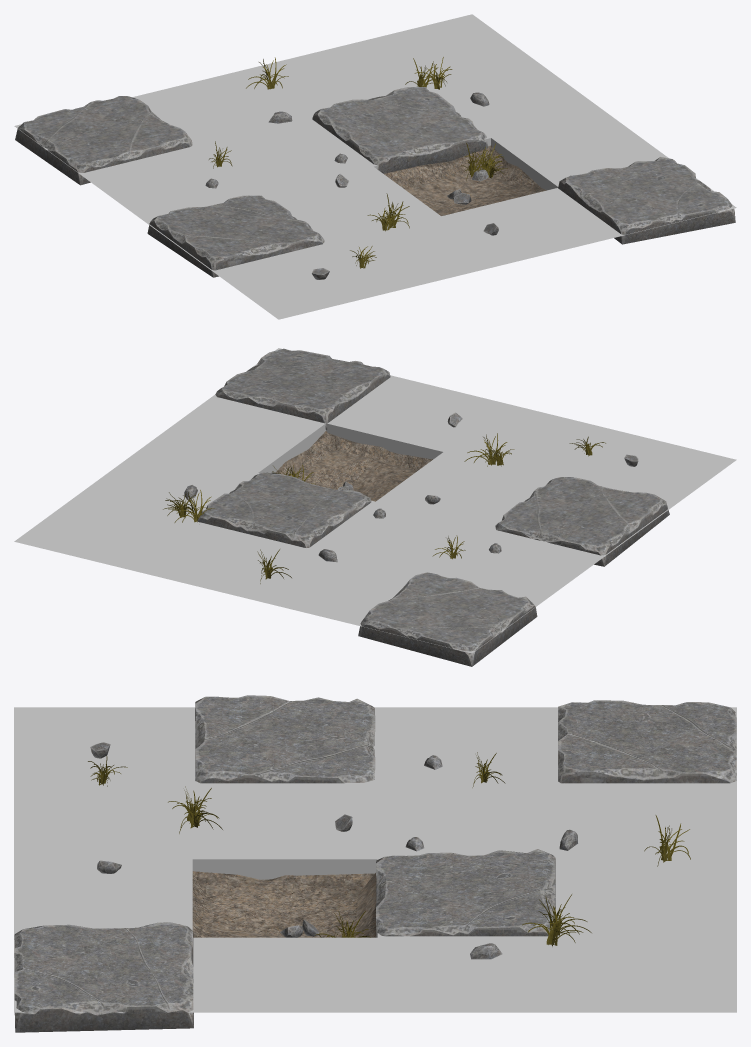
3 views of the same model, one above another, from view 1: azimuth 30°, elevation 25°; view 2: azimuth 150°, elevation 25°; view 3: azimuth 270°, elevation 25° (orthographic). The views are drawn at different scales.
Parts seen in each view (by area): view 1: StoneFloor, StoneFloor_Details, StoneFloor_Grass; view 2: StoneFloor, StoneFloor_Details, StoneFloor_Grass; view 3: StoneFloor, StoneFloor_Details, StoneFloor_Grass.
Part boxes in pixels (<box>): StoneFloor: <box>14,14,736,319</box>; StoneFloor_Details: <box>15,87,735,279</box>; StoneFloor_Grass: <box>209,57,507,268</box>; StoneFloor: <box>14,348,736,653</box>; StoneFloor_Details: <box>184,348,669,666</box>; StoneFloor_Grass: <box>163,433,605,583</box>; StoneFloor: <box>14,707,736,1012</box>; StoneFloor_Details: <box>14,695,736,1032</box>; StoneFloor_Grass: <box>88,752,690,946</box>.
Size of the model in its own units: 382 by 47.54 by 382.
